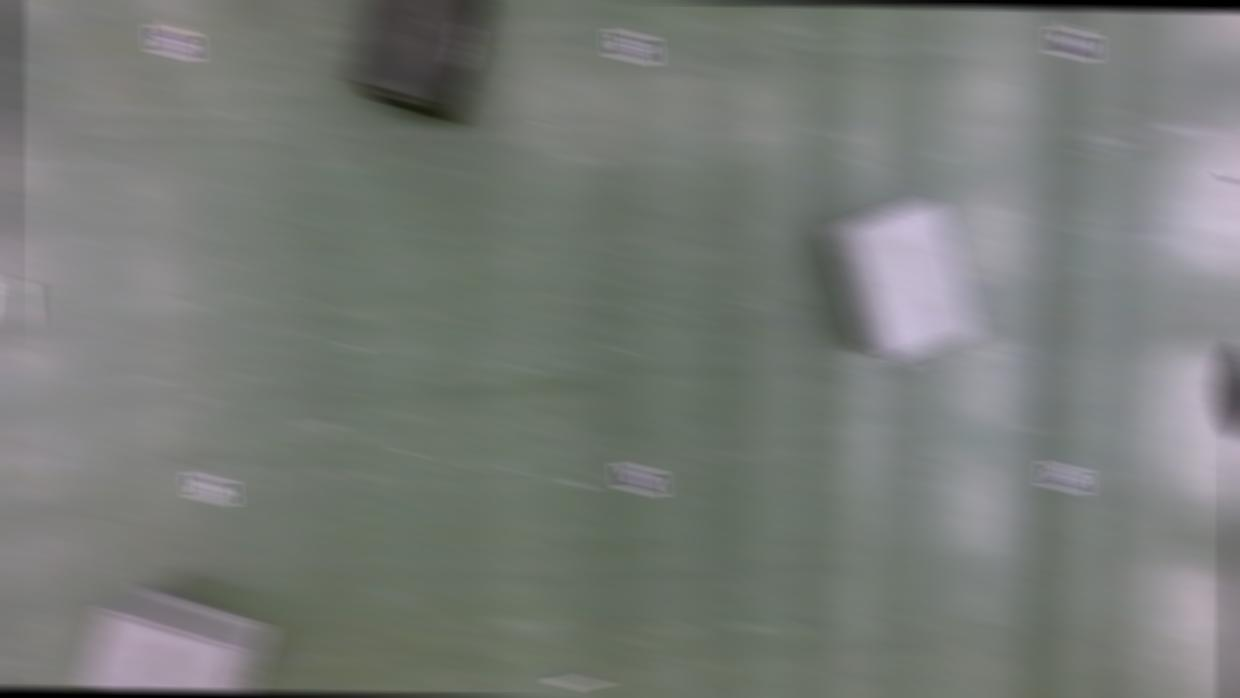probes: (10, 274, 32, 321), (552, 674, 602, 690), (1223, 172, 1240, 201)
rako: (822, 192, 980, 361), (76, 582, 272, 693), (345, 0, 493, 122)
